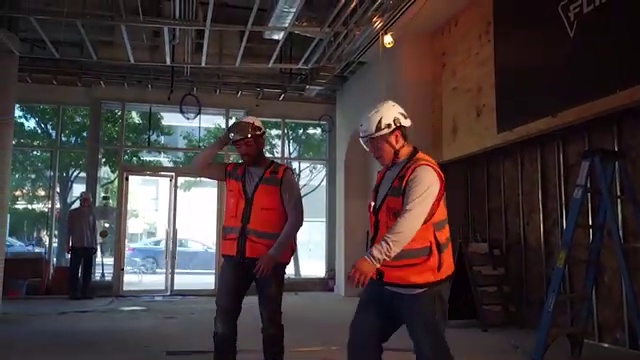helmet: (355, 96, 418, 141), (217, 115, 267, 142)
jacket: (362, 152, 466, 288), (222, 161, 299, 265)
